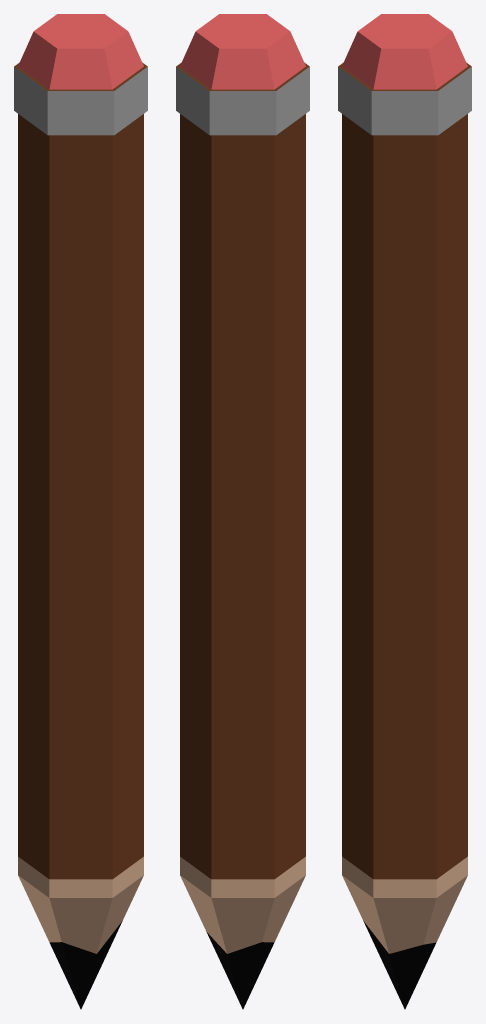
The picture shows the model from 3 angles, left to right: view 1: azimuth 90°, elevation 25°; view 2: azimuth 150°, elevation 25°; view 3: azimuth 270°, elevation 25°; orthographic projection.
Visible parts, largest first — view 1: Cylinder.001; view 2: Cylinder.001; view 3: Cylinder.001.
Part boxes in pixels (box(x1,y1,x2,y2)): Cylinder.001: box(14, 14, 147, 1009); Cylinder.001: box(176, 14, 309, 1009); Cylinder.001: box(338, 14, 471, 1009).
Size of the model in its own units: 34.62 by 323 by 39.98.
